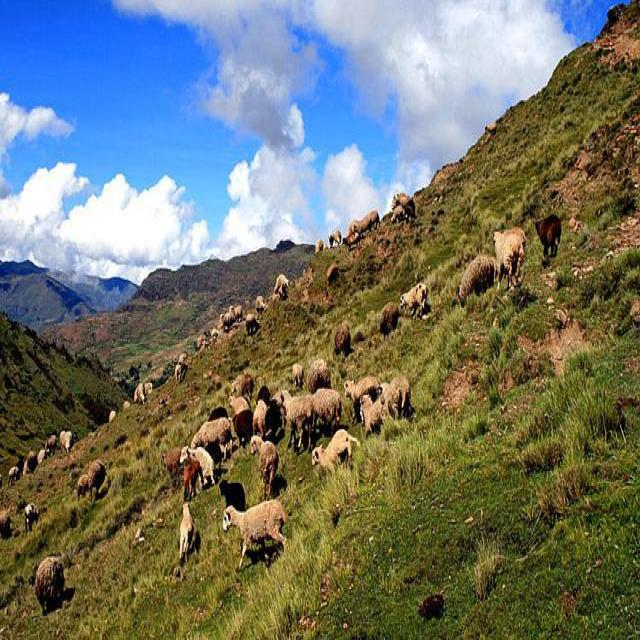Sheep: (249, 375, 380, 501), (222, 496, 288, 572), (275, 389, 314, 456), (492, 227, 529, 289), (456, 257, 494, 308), (307, 387, 343, 438)
